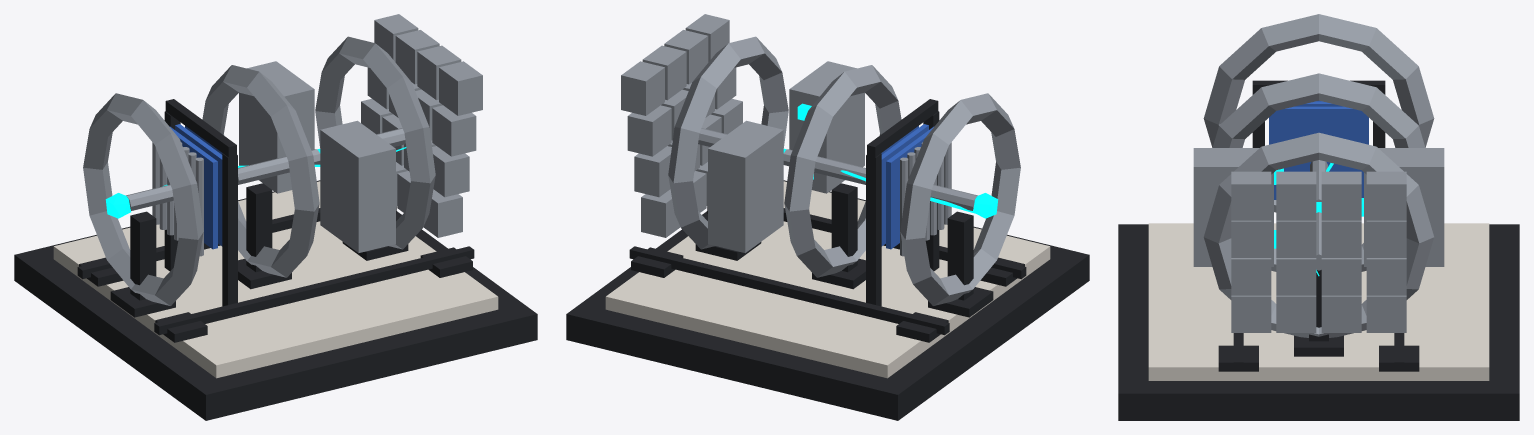
File: detector_scene.glb
3 views of the same model, side by side, from view 1: azimuth 30°, elevation 25°; view 2: azimuth 150°, elevation 25°; view 3: azimuth 270°, elevation 25° (orthographic). The views are drawn at different scales.
Visible parts, largest first — view 1: PROP_plinth, PROP_photon_blocks, PROP_calorimeter, PROP_detector_ring_00, PROP_detector_ring_01, PROP_detector_ring_02, PROP_support_frame, PROP_tracker_station, PROP_ring_support_00, PROP_ring_support_01, HERO_beam_pipe, PROP_straw_tracker (+1 smaller); view 2: PROP_plinth, PROP_photon_blocks, PROP_calorimeter, PROP_detector_ring_00, PROP_detector_ring_01, PROP_detector_ring_02, PROP_support_frame, PROP_tracker_station, PROP_ring_support_00, PROP_ring_support_01, HERO_beam_pipe, PROP_straw_tracker (+1 smaller); view 3: PROP_plinth, PROP_calorimeter, PROP_detector_ring_02, PROP_detector_ring_00, PROP_photon_blocks, PROP_detector_ring_01, PROP_tracker_station, PROP_support_frame, PROP_ring_support_02, HERO_beam_pipe.
Part boxes in pixels (bbox=[...]): PROP_plinth: bbox=[14, 180, 537, 420]; PROP_photon_blocks: bbox=[239, 61, 395, 253]; PROP_calorimeter: bbox=[361, 14, 482, 237]; PROP_detector_ring_00: bbox=[83, 93, 203, 305]; PROP_detector_ring_01: bbox=[202, 65, 319, 277]; PROP_detector_ring_02: bbox=[315, 36, 435, 249]; PROP_support_frame: bbox=[77, 206, 474, 342]; PROP_tracker_station: bbox=[164, 99, 237, 306]; PROP_ring_support_00: bbox=[110, 211, 175, 317]; PROP_ring_support_01: bbox=[238, 183, 291, 289]; HERO_beam_pipe: bbox=[126, 128, 405, 210]; PROP_straw_tracker: bbox=[152, 142, 203, 256]; PROP_plinth: bbox=[566, 180, 1089, 420]; PROP_photon_blocks: bbox=[708, 61, 864, 253]; PROP_calorimeter: bbox=[621, 14, 742, 237]; PROP_detector_ring_00: bbox=[900, 93, 1020, 305]; PROP_detector_ring_01: bbox=[784, 65, 901, 277]; PROP_detector_ring_02: bbox=[668, 36, 788, 249]; PROP_support_frame: bbox=[629, 206, 1026, 342]; PROP_tracker_station: bbox=[866, 99, 939, 306]; PROP_ring_support_00: bbox=[928, 211, 993, 317]; PROP_ring_support_01: bbox=[812, 183, 865, 289]; HERO_beam_pipe: bbox=[698, 128, 977, 210]; PROP_straw_tracker: bbox=[900, 142, 951, 256]; PROP_plinth: bbox=[1118, 223, 1519, 420]; PROP_calorimeter: bbox=[1231, 171, 1406, 332]; PROP_detector_ring_02: bbox=[1203, 132, 1434, 337]; PROP_detector_ring_00: bbox=[1203, 14, 1434, 212]; PROP_photon_blocks: bbox=[1193, 148, 1444, 266]; PROP_detector_ring_01: bbox=[1212, 73, 1425, 271]; PROP_tracker_station: bbox=[1252, 80, 1385, 199]; PROP_support_frame: bbox=[1218, 333, 1419, 371]; PROP_ring_support_02: bbox=[1294, 270, 1343, 356]; HERO_beam_pipe: bbox=[1310, 160, 1327, 270].
Size of the model in its own units: 4.03 by 2.8 by 4.
